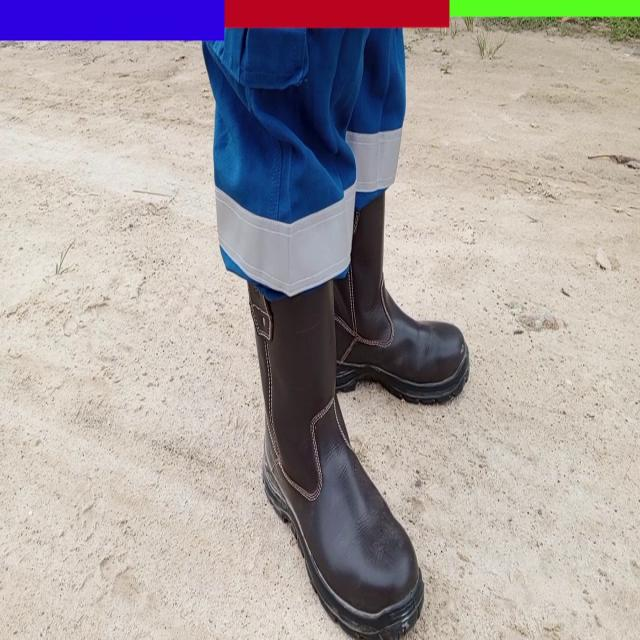Overall Suit: (206, 30, 406, 298)
Safety Boots: (252, 285, 424, 637), (336, 197, 466, 404)
